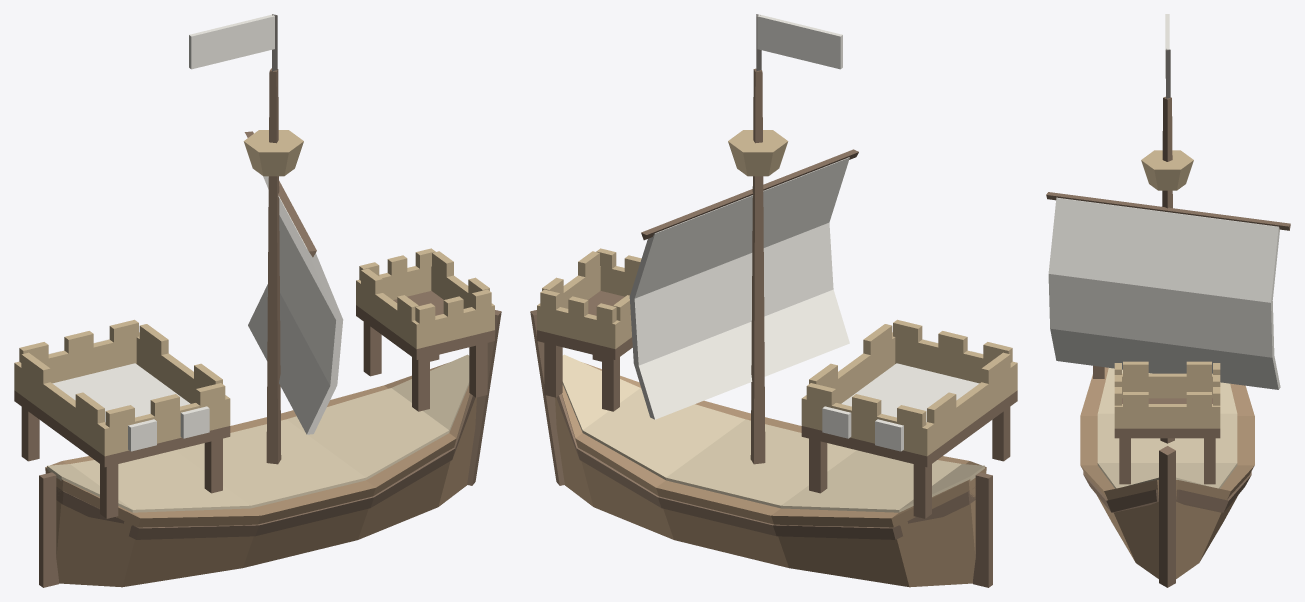
Rendered from fleet.glb.
The picture shows the model from 3 angles, left to right: view 1: azimuth 30°, elevation 25°; view 2: azimuth 150°, elevation 25°; view 3: azimuth 270°, elevation 25°; orthographic projection. The views are drawn at different scales.
Visible parts, largest first — view 1: medieval_fleet; view 2: medieval_fleet; view 3: medieval_fleet.
Part boxes in pixels (x1,y1,x2,y2): medieval_fleet: (14,14,501,587); medieval_fleet: (530,14,1017,587); medieval_fleet: (1046,14,1290,587).
Size of the model in its own units: 0.9339 by 0.9995 by 0.4906.
